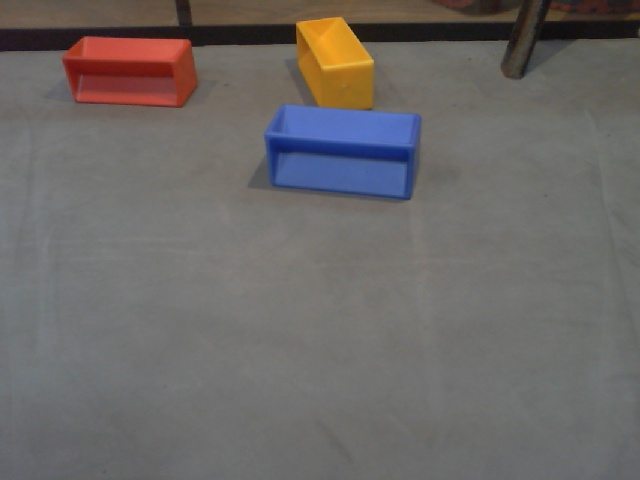BlueSample: (261, 97, 420, 204)
RedSample: (60, 33, 198, 111)
YellowSample: (287, 14, 383, 117)
